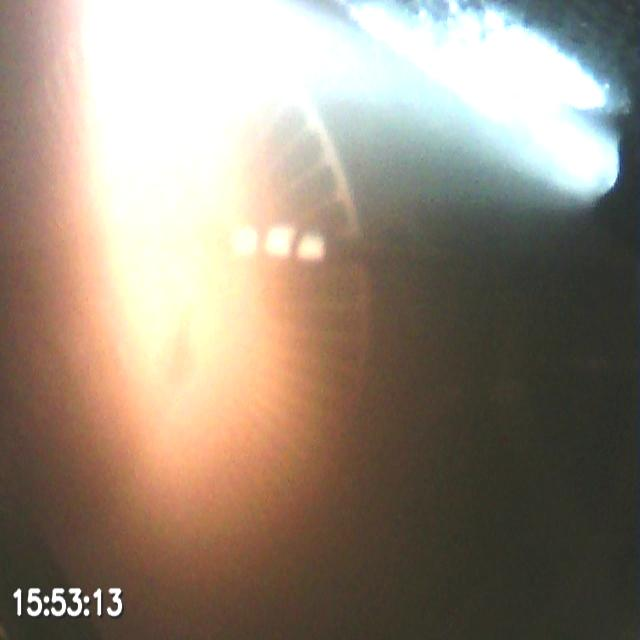white-dots: (230, 224, 328, 265)
